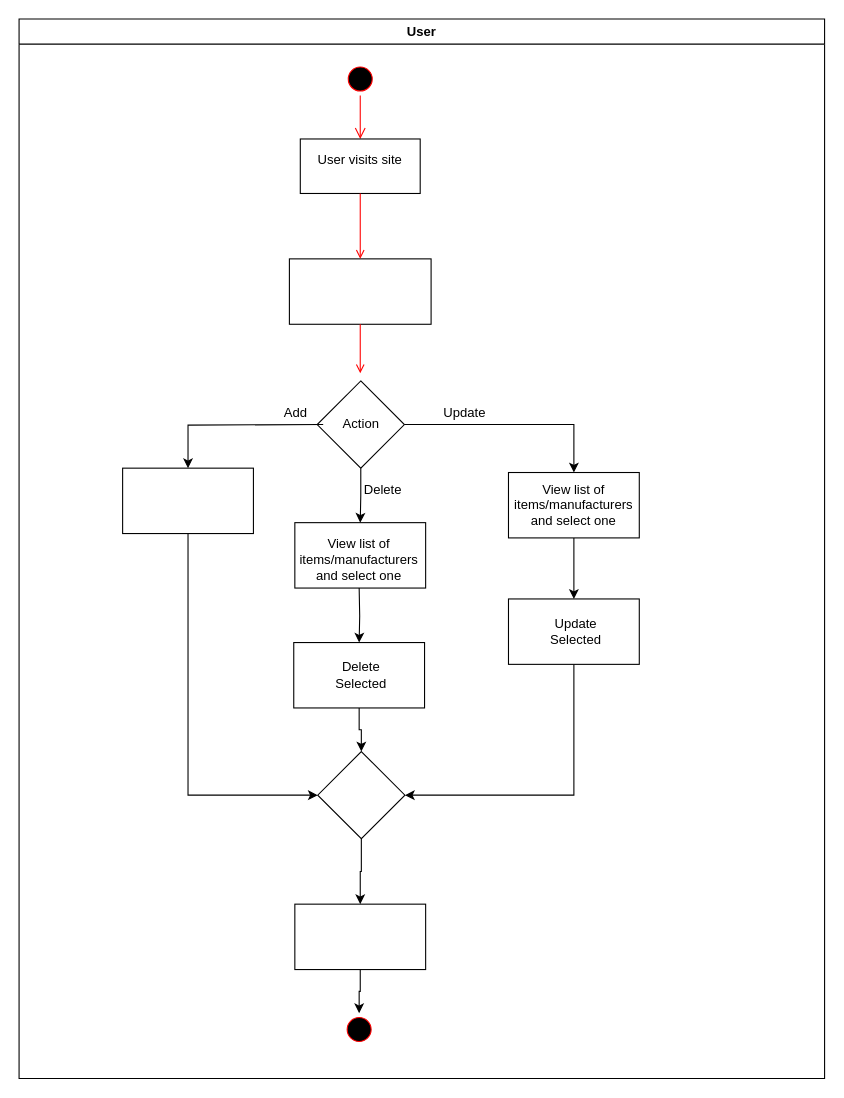
Image size: 844x1098. Some labels were removed from this diagram. The shapes that lost their labels are listed below. From the top down, each one's box as (x1, y1, x2, y2) in pixels, then its label:
(288, 258, 431, 324): Use views list of items and manufacturers
(122, 467, 253, 534): Add a item or manufacturer
(294, 903, 426, 970): View updated list
